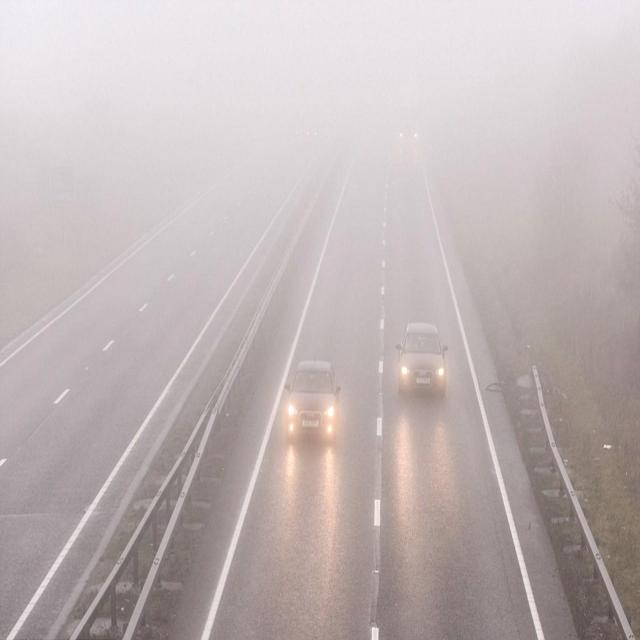Car: (286, 357, 341, 441), (397, 321, 447, 395)
